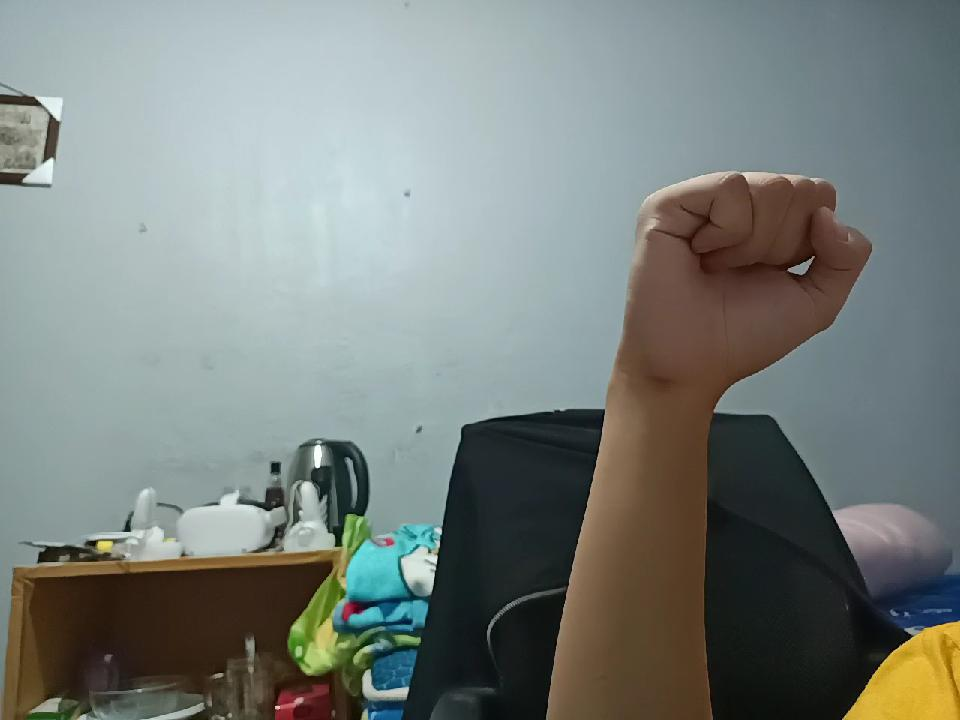rock: (607, 147, 893, 386)
